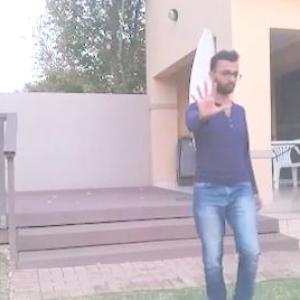follow_hand: (186, 73, 234, 123)
